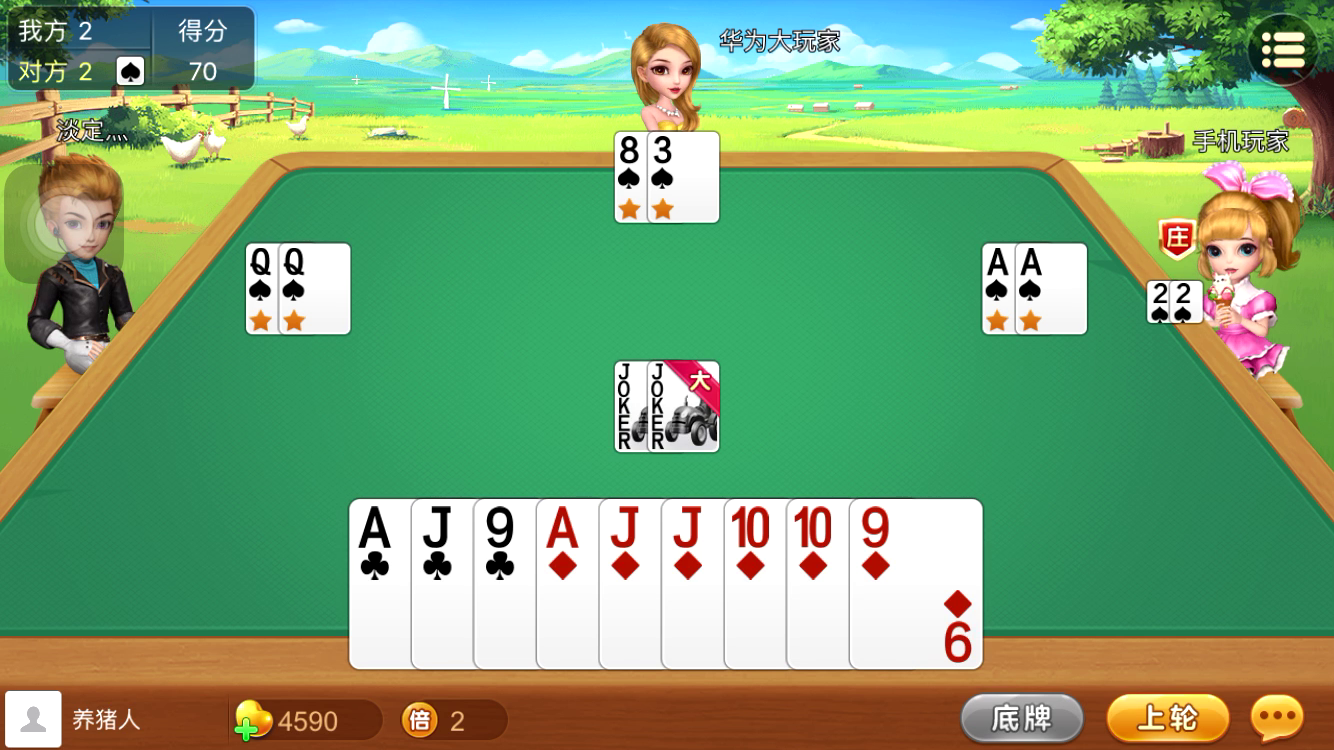A: (354, 503, 402, 555), (540, 503, 587, 553), (1016, 246, 1050, 286), (981, 245, 1012, 286)
J: (602, 502, 652, 554), (665, 502, 714, 554), (416, 503, 461, 555)
Q: (277, 248, 312, 285), (247, 244, 277, 282)
eight: (613, 132, 644, 171)
joker: (614, 361, 638, 420), (646, 362, 669, 418)
nine: (477, 503, 525, 555), (853, 504, 901, 554)
ten: (789, 503, 841, 555), (727, 503, 778, 555)
three: (648, 133, 682, 170)
two: (1169, 282, 1199, 308), (1148, 277, 1172, 305)
